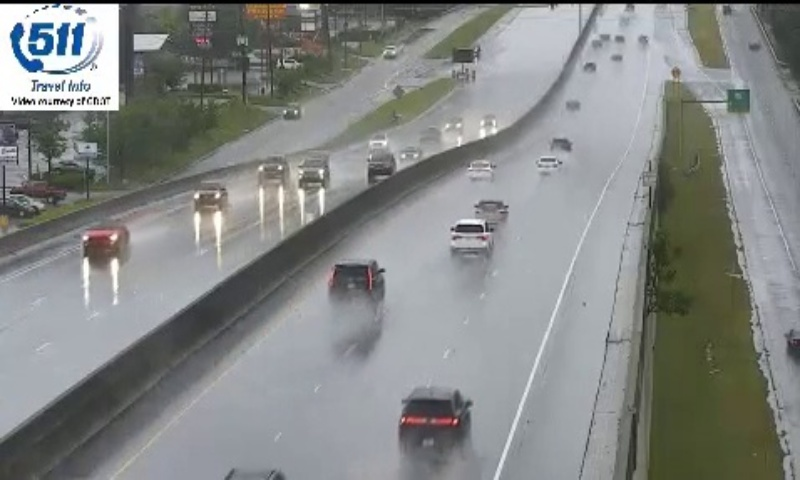car: (400, 388, 471, 453), (329, 259, 384, 300), (448, 219, 492, 253), (473, 200, 508, 226), (468, 158, 493, 180), (537, 154, 558, 177)
